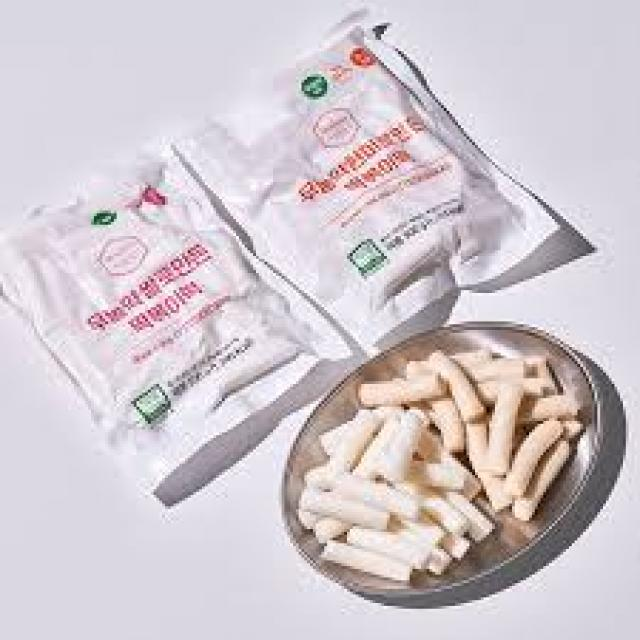rice_cake: (304, 350, 586, 582)
